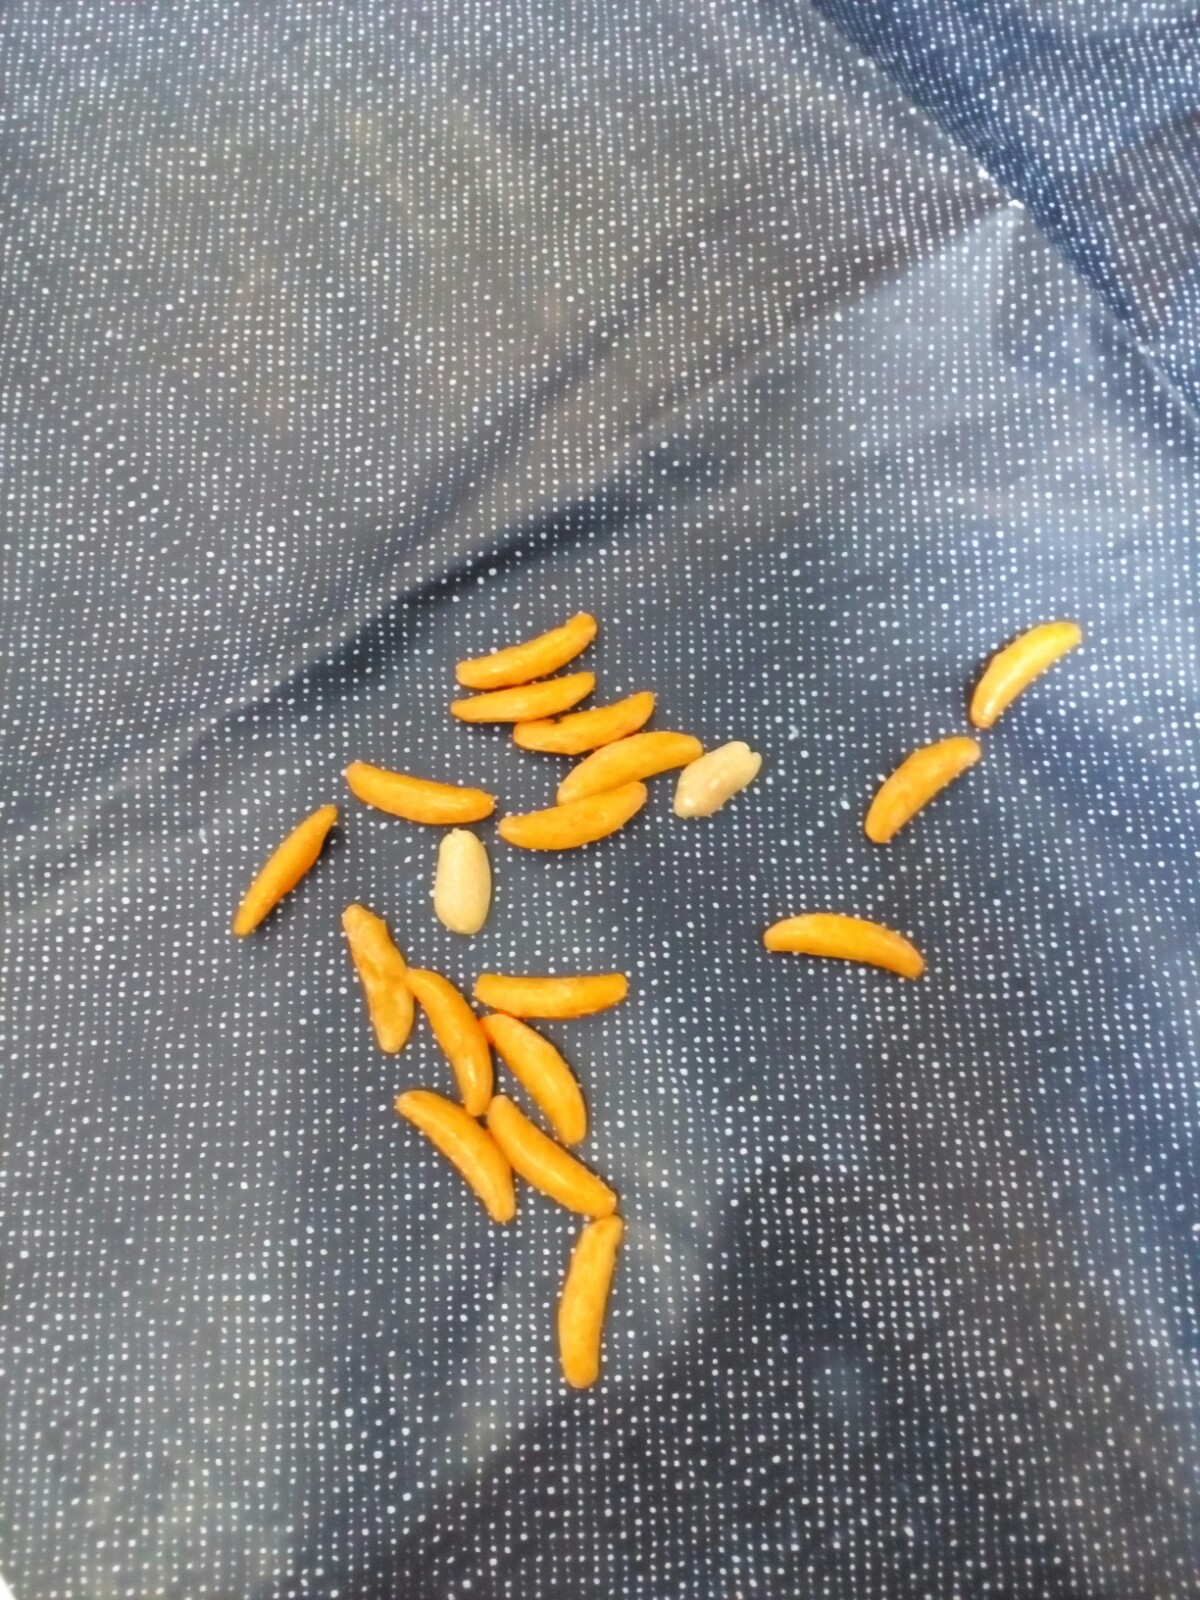peanut: (652, 723, 773, 840), (426, 808, 499, 944)
